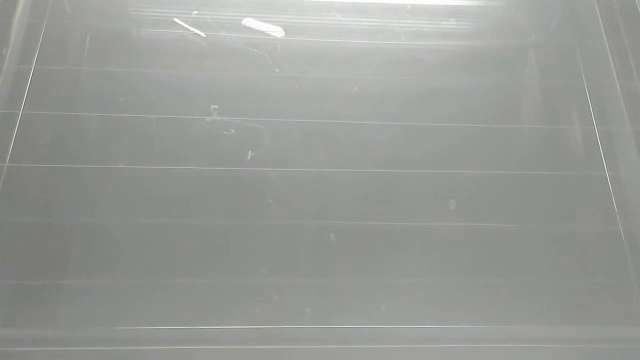alpha: (239, 15, 291, 43), (169, 15, 211, 42)
